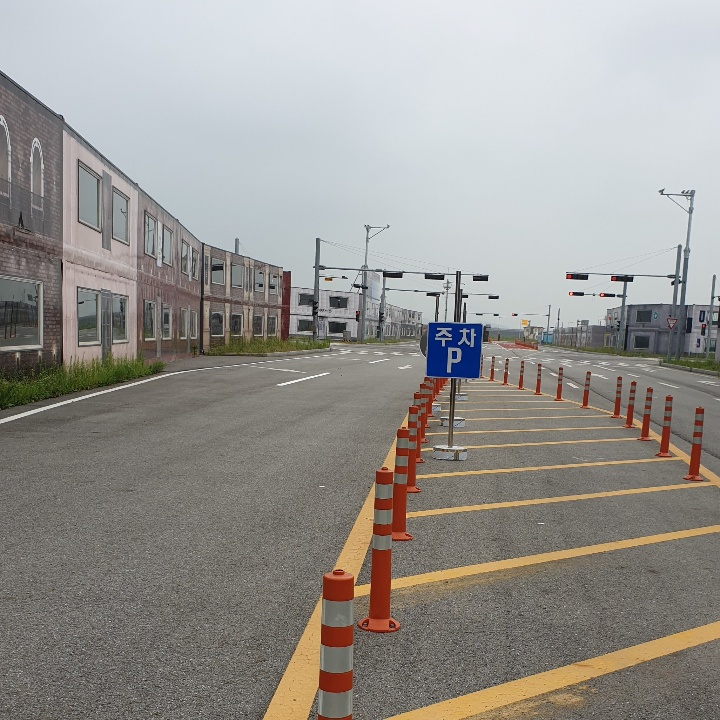parking: (442, 342, 463, 376)
